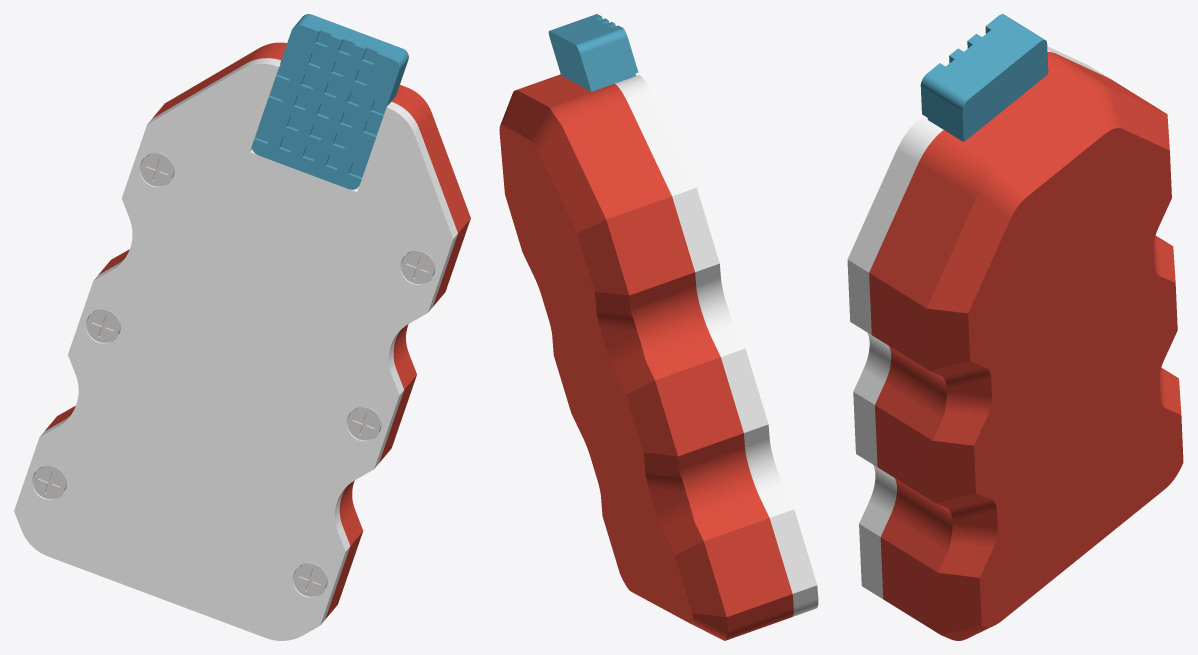
File: agua.glb
3 renders of one model, left to right at view 1: azimuth 30°, elevation 25°; view 2: azimuth 150°, elevation 25°; view 3: azimuth 270°, elevation 25°, orthographic. The views are drawn at different scales.
Parts seen in each view (by area): view 1: agauclara-esp32-dht-housing v3; view 2: agauclara-esp32-dht-housing v3; view 3: agauclara-esp32-dht-housing v3.
Boxes of the visible parts, x1,y1,x2,y2 form: agauclara-esp32-dht-housing v3: (14,14,470,640); agauclara-esp32-dht-housing v3: (499,14,818,640); agauclara-esp32-dht-housing v3: (847,14,1183,640).
Bounding box in the file's own units: 48.97 × 71.97 × 34.6.
